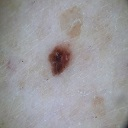Melanoma: (45, 44, 71, 77)
